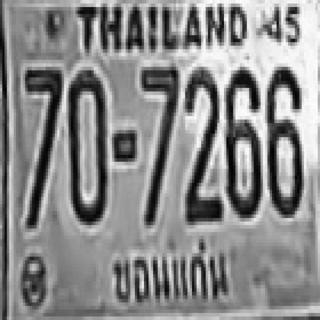N00: (66, 67, 105, 222)
N02: (183, 70, 220, 218), (184, 67, 218, 208)
N06: (265, 63, 302, 215), (224, 63, 260, 215)
N07: (139, 63, 178, 222), (22, 67, 61, 222), (140, 63, 177, 165), (23, 67, 60, 169)
P18: (109, 236, 231, 308)
